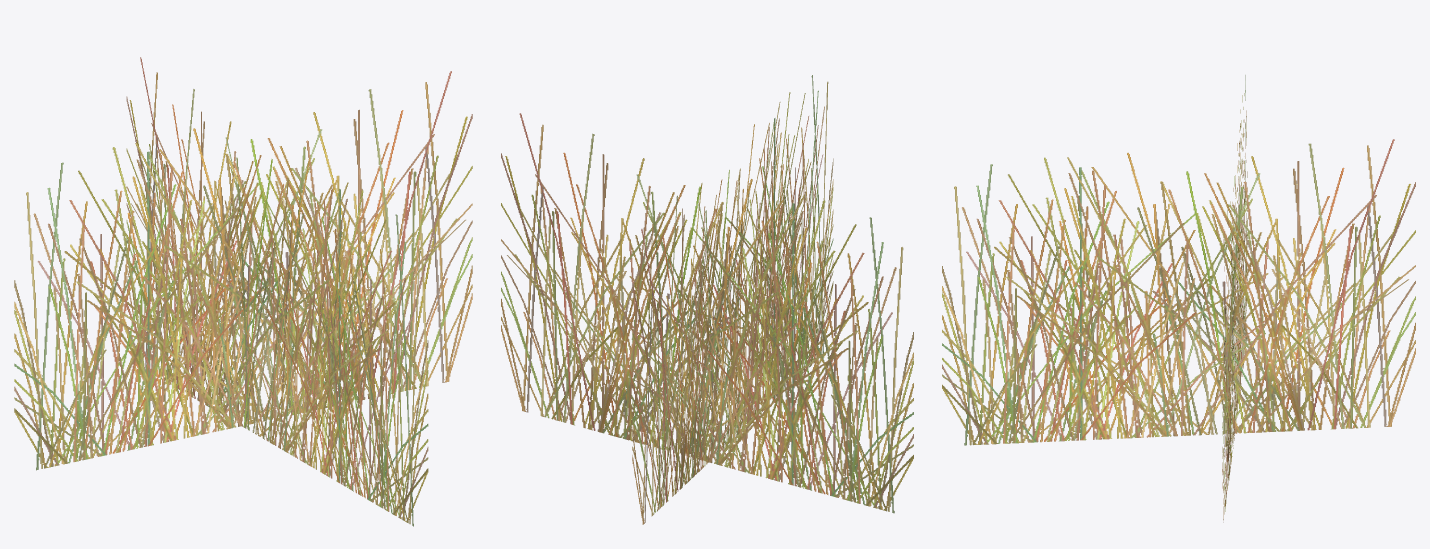
The model's file is Grass_Wispy_Short_LOD2.gltf.
The picture shows the model from 3 angles, left to right: view 1: azimuth 30°, elevation 25°; view 2: azimuth 150°, elevation 25°; view 3: azimuth 270°, elevation 25°; orthographic projection. The views are drawn at different scales.
Visible parts, largest first — view 1: Grass_Wispy_Short_LOD2; view 2: Grass_Wispy_Short_LOD2; view 3: Grass_Wispy_Short_LOD2.
Boxes of the visible parts, <box> form: Grass_Wispy_Short_LOD2: <box>14,57,472,526</box>; Grass_Wispy_Short_LOD2: <box>501,75,913,524</box>; Grass_Wispy_Short_LOD2: <box>942,75,1415,522</box>.
Bounding box in the file's own units: 0.699 × 0.5186 × 0.6963.
Materials: 1 (1 with a texture image).
